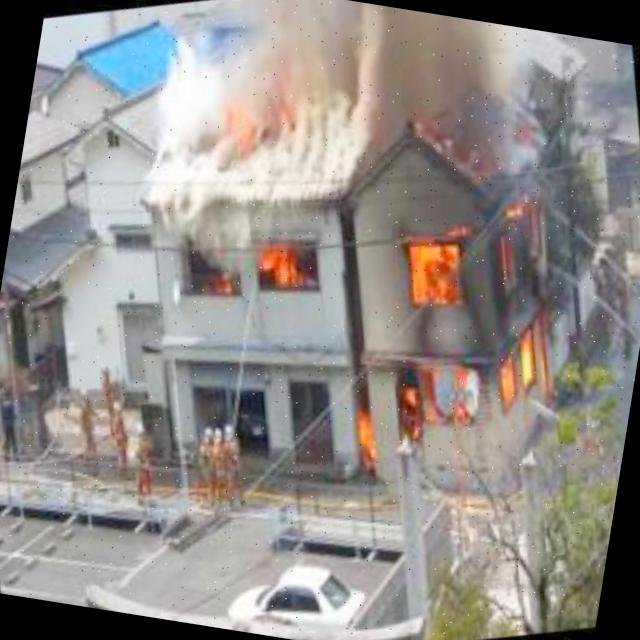fire: (280, 134, 624, 506), (156, 199, 340, 333), (166, 36, 330, 183)
